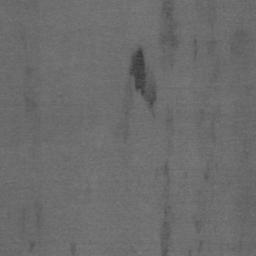Iron scale compression: (130, 47, 157, 117), (160, 157, 170, 256), (162, 0, 174, 48)
